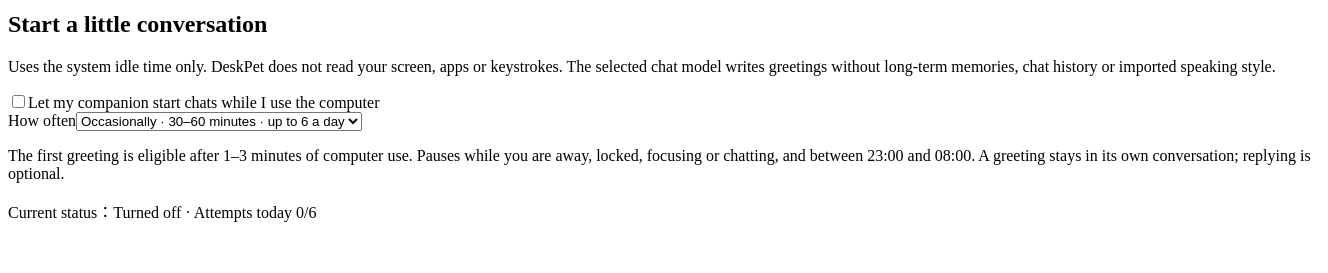
Scenario: waits for a successful settings save and keeps the old checkbox on failure
The image size is (1328, 273).
Later steps or results of the test are not shown.
Click the checkbox: (18, 101) x1=12 y1=95 x2=25 y2=108
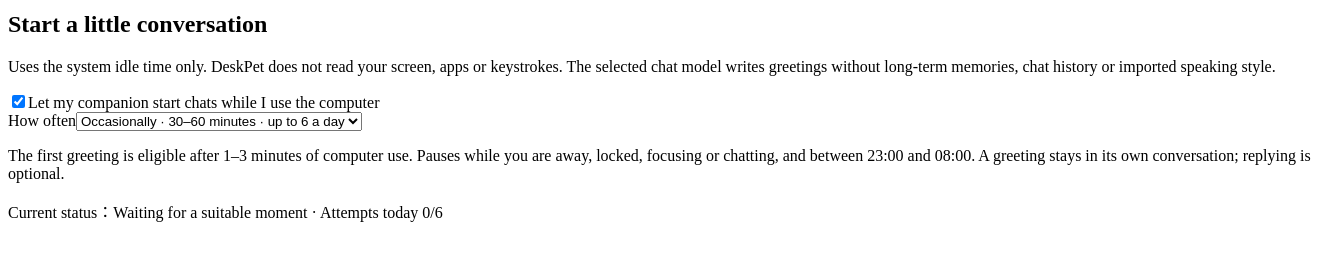
Check: the checkbox is checked
Click the checkbox: (18, 101) x1=12 y1=95 x2=25 y2=108
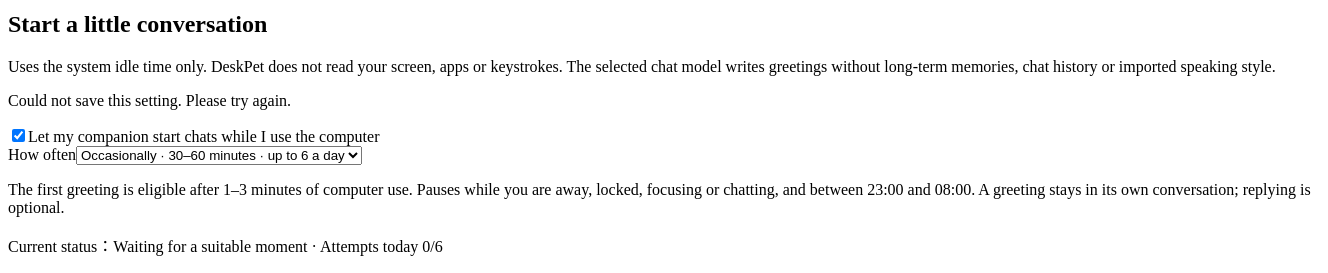
Check: the checkbox is enabled, box x1=12 y1=129 x2=25 y2=142
Check: the checkbox is checked, box x1=12 y1=129 x2=25 y2=142
Check: the message "Could not save this setting. Please try again." is shown, box x1=8 y1=92 x2=291 y2=109
